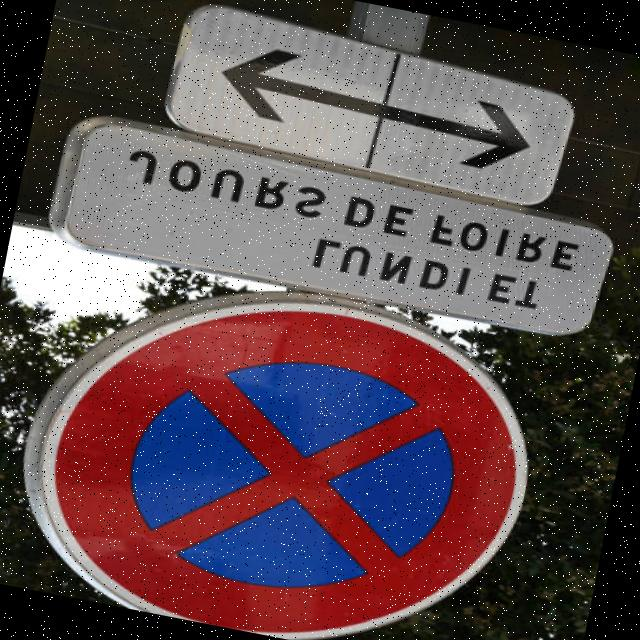no_parking: (4, 245, 573, 640)
